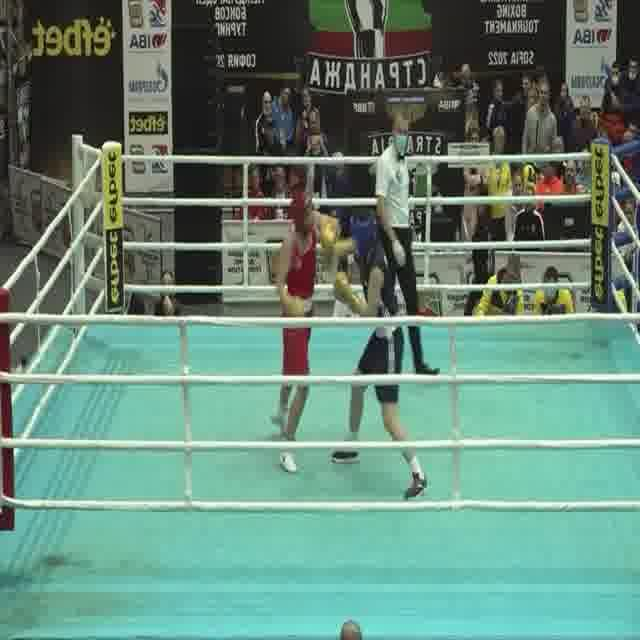blue-player: (331, 209, 434, 508)
red-player: (269, 188, 345, 478)
referee: (372, 108, 444, 382)
